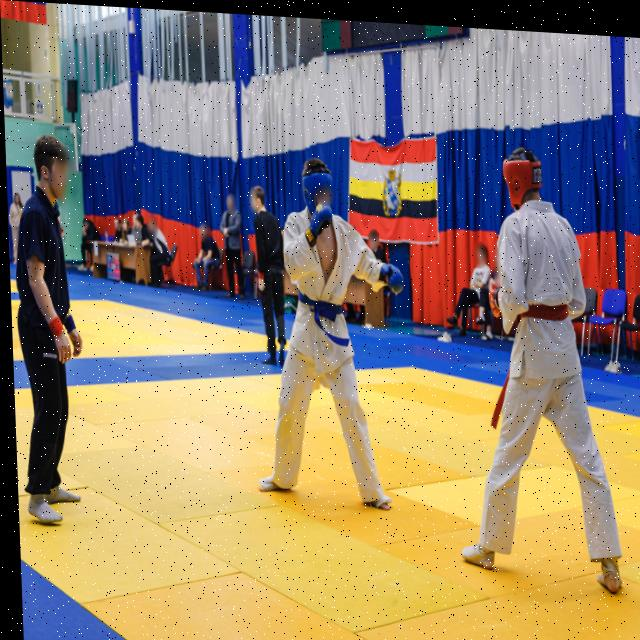Person: (441, 124, 633, 608), (249, 147, 396, 534), (4, 124, 97, 560), (245, 181, 295, 371), (213, 176, 246, 295), (182, 211, 222, 294), (454, 232, 487, 330), (148, 209, 172, 284), (75, 213, 105, 271), (5, 183, 24, 271), (107, 213, 124, 249), (132, 203, 145, 247), (119, 212, 130, 253)
